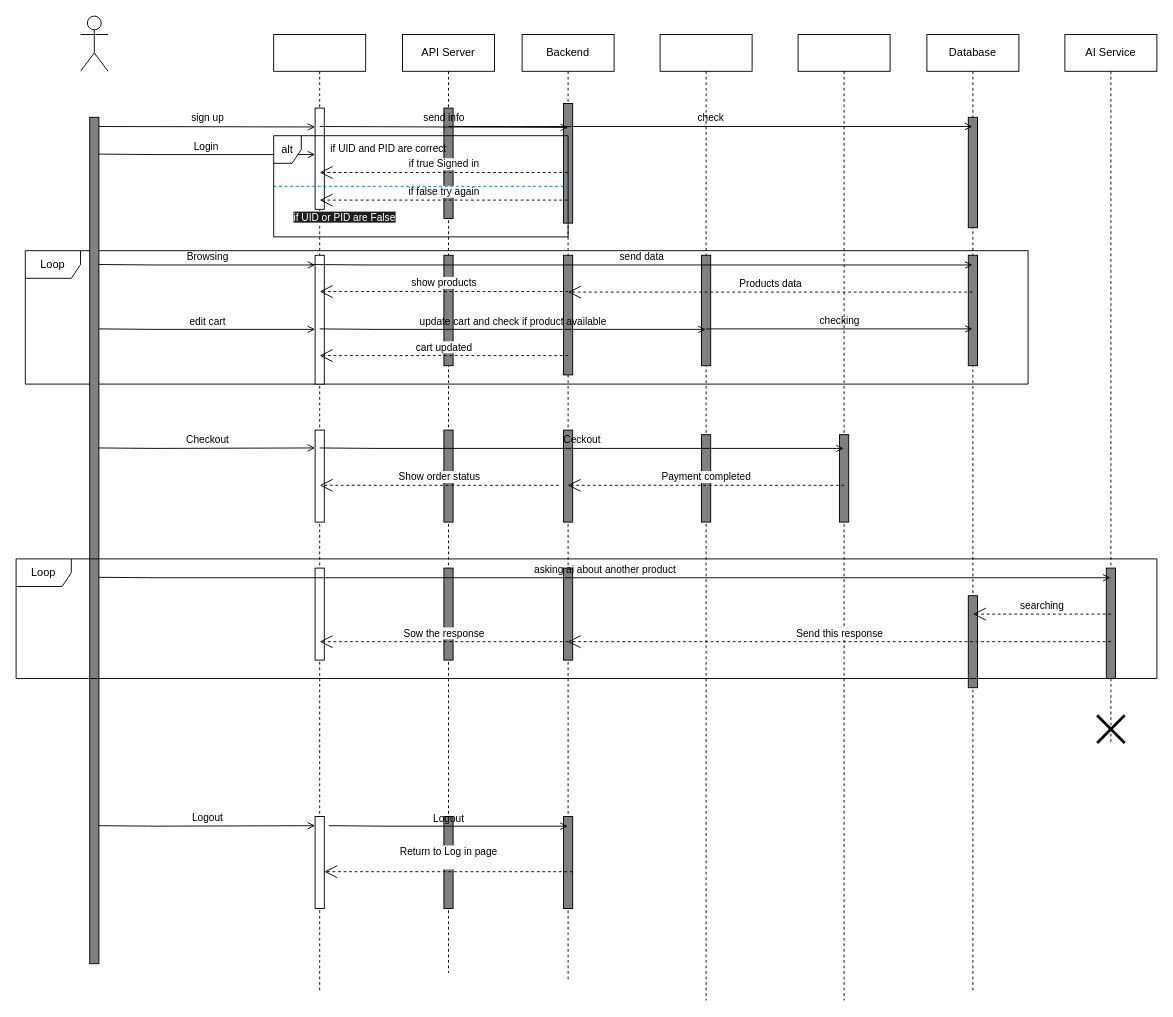
This 1173x1017 diagram has some shape labels left out. The shapes that lost their labels are listed below. From the top down, each one's centre as x and y in pixels, then its label:
At [94,43]: "Customer".
At [319,512]: "Interface".
At [705,517]: "Cart Service".
At [843,517]: "Payment Service".
